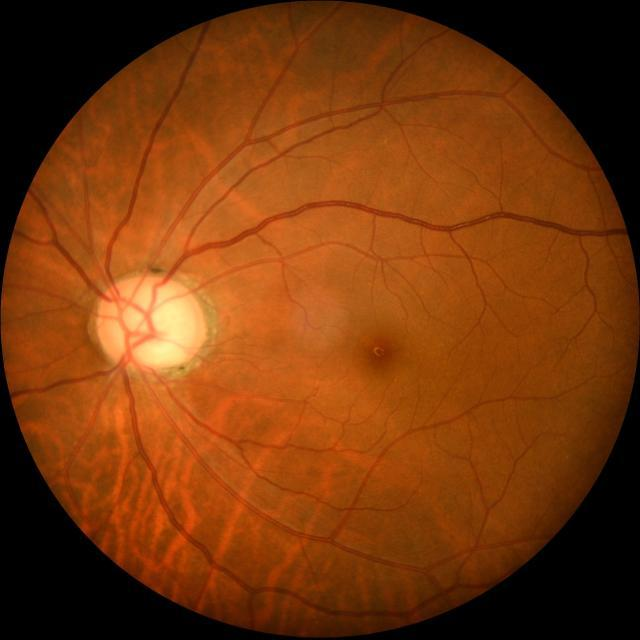OC: (112, 286, 193, 364)
OD: (92, 274, 204, 372)
